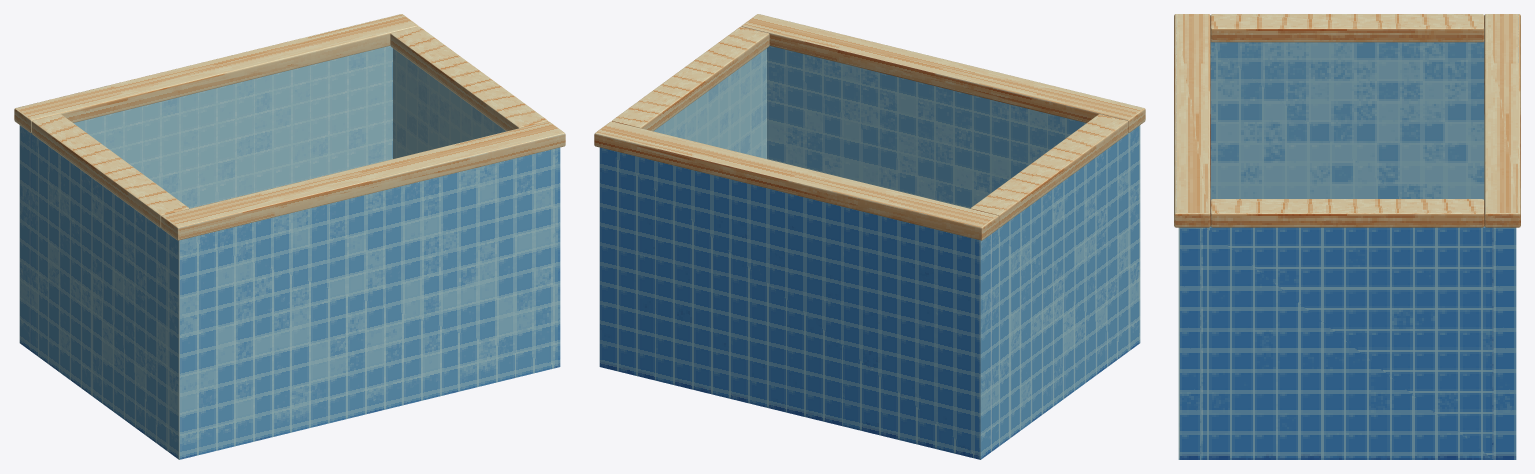
The model's file is ofuro_own.glb.
The picture shows the model from 3 angles, left to right: view 1: azimuth 30°, elevation 25°; view 2: azimuth 150°, elevation 25°; view 3: azimuth 270°, elevation 25°; orthographic projection. The views are drawn at different scales.
Parts seen in each view (by area): view 1: mesh; view 2: mesh; view 3: mesh.
Part boxes in pixels (<box>): mesh: <box>14,14,565,459</box>; mesh: <box>594,14,1145,459</box>; mesh: <box>1174,14,1520,459</box>.
Bounding box in the file's own units: 1.04 × 0.6001 × 0.76.
1 material, 1 textured.
